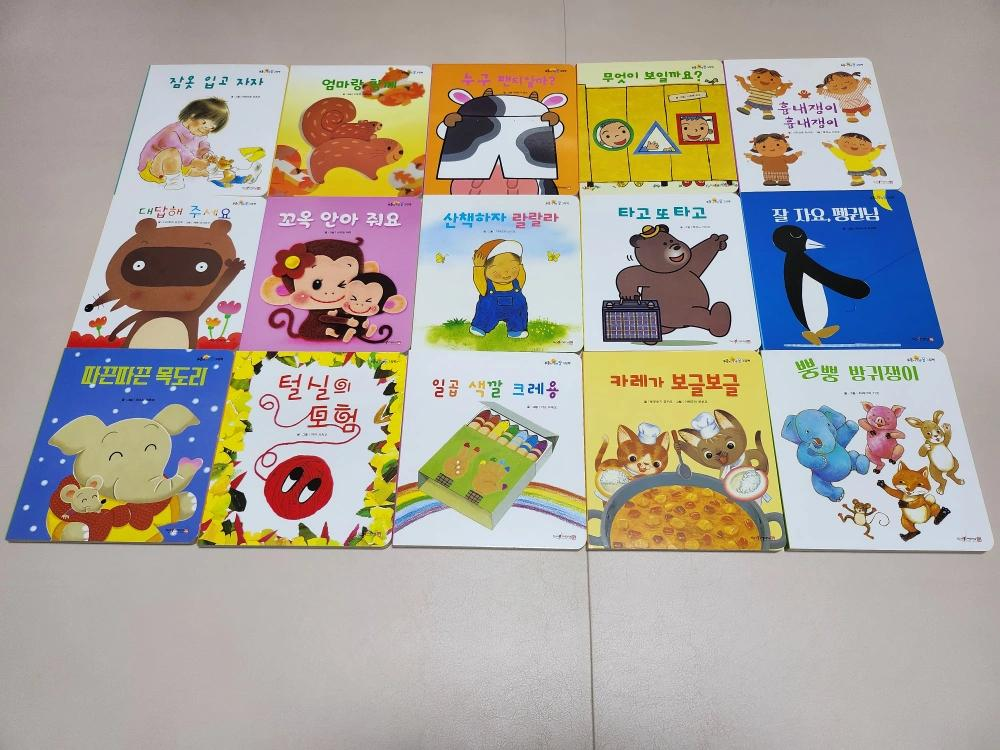book: (23, 57, 993, 556)
